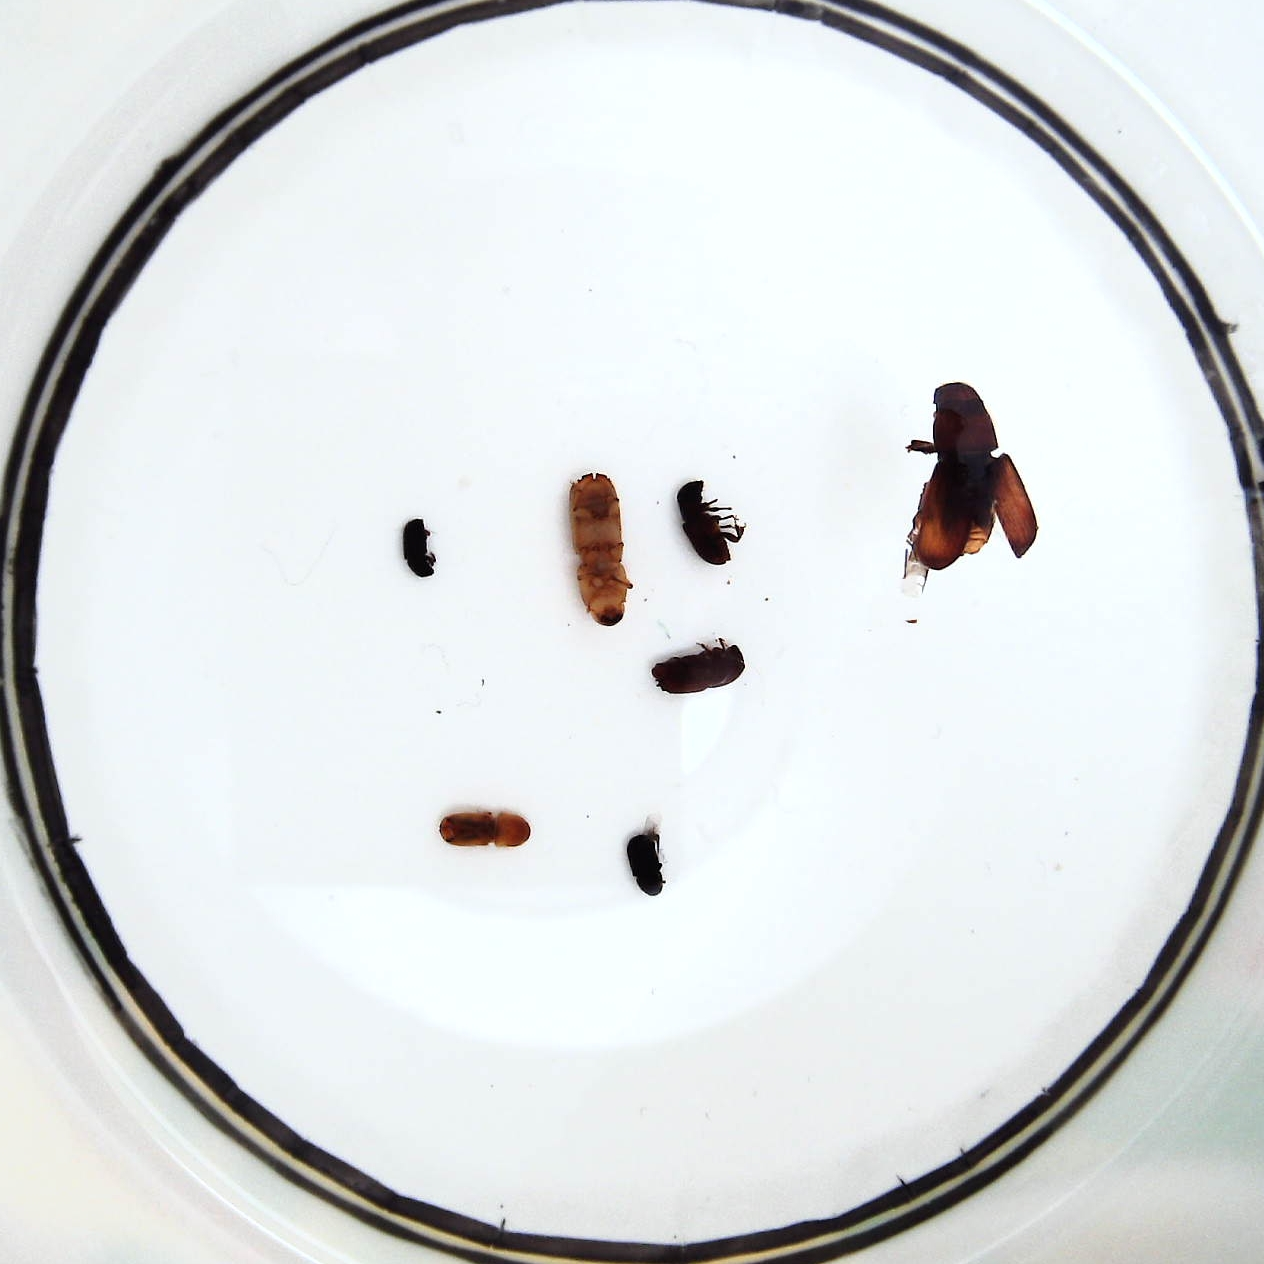Boerner: (571, 475, 630, 629)
Leconte: (906, 381, 1039, 575)
Linnaeus: (653, 645, 747, 697)
acuminatus: (439, 811, 531, 848)
armandi: (677, 478, 747, 567)
coleoptera: (627, 833, 667, 901), (400, 519, 438, 579)
